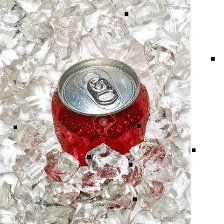can: (49, 55, 156, 165)
